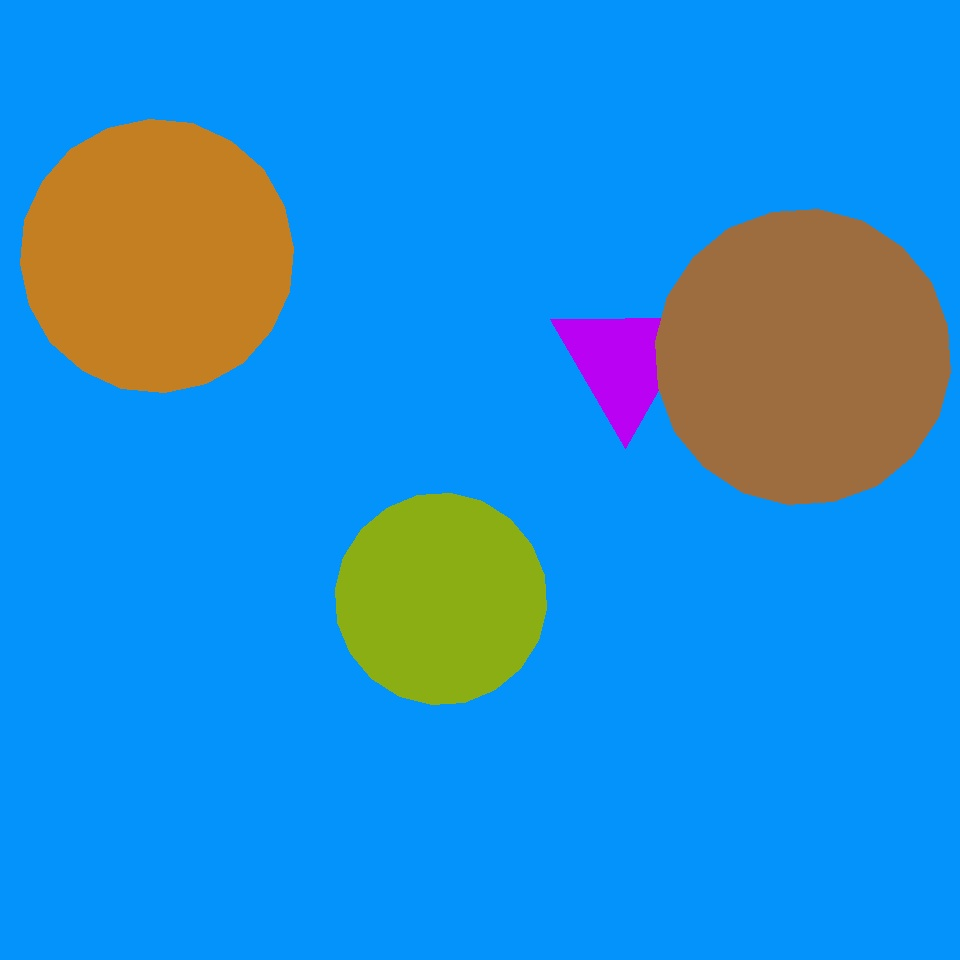circle: (223, 343, 495, 590), (702, 102, 900, 286), (550, 297, 700, 427)
triangle: (655, 210, 950, 504), (21, 120, 294, 392), (336, 494, 546, 704)
